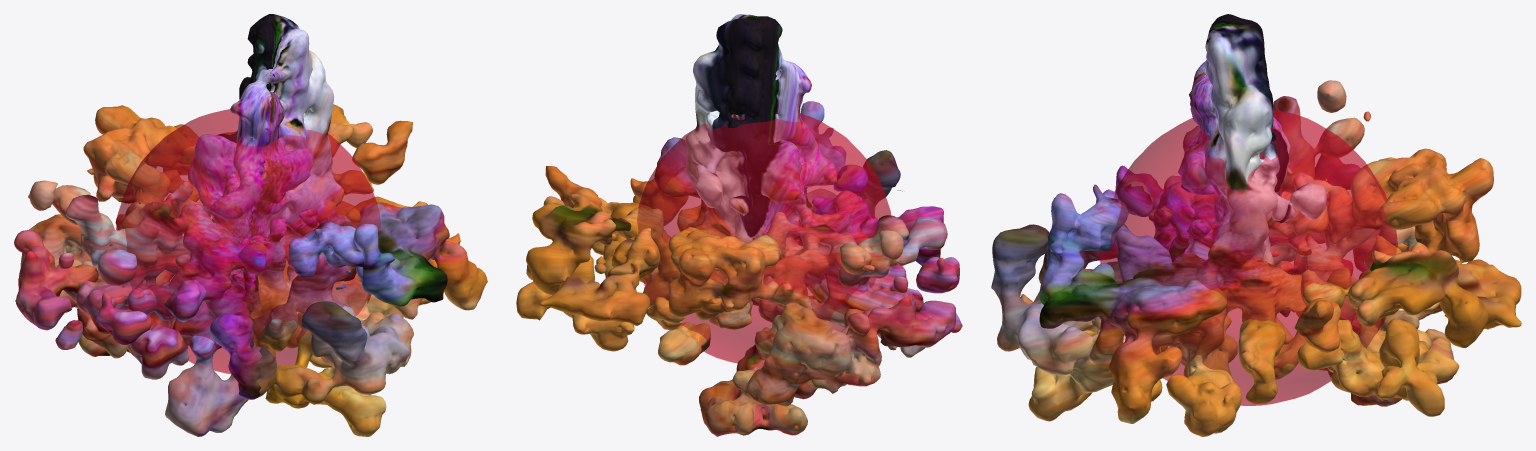
Rendered from erythra.glb.
3 views of the same model, side by side, from view 1: azimuth 30°, elevation 25°; view 2: azimuth 150°, elevation 25°; view 3: azimuth 270°, elevation 25° (orthographic). The views are drawn at different scales.
Parts seen in each view (by area): view 1: triangle_mesh_morph, sphere; view 2: triangle_mesh_morph, sphere; view 3: triangle_mesh_morph, sphere.
Part boxes in pixels (x1,y1,x2,y2): triangle_mesh_morph: [14, 14, 487, 436]; sphere: [116, 109, 380, 373]; triangle_mesh_morph: [516, 14, 962, 436]; sphere: [637, 114, 890, 363]; triangle_mesh_morph: [991, 14, 1521, 436]; sphere: [1099, 109, 1398, 405].
Bounding box in the file's own units: 3.44 × 2.99 × 3.54.
Materials: 2 (1 with a texture image).
